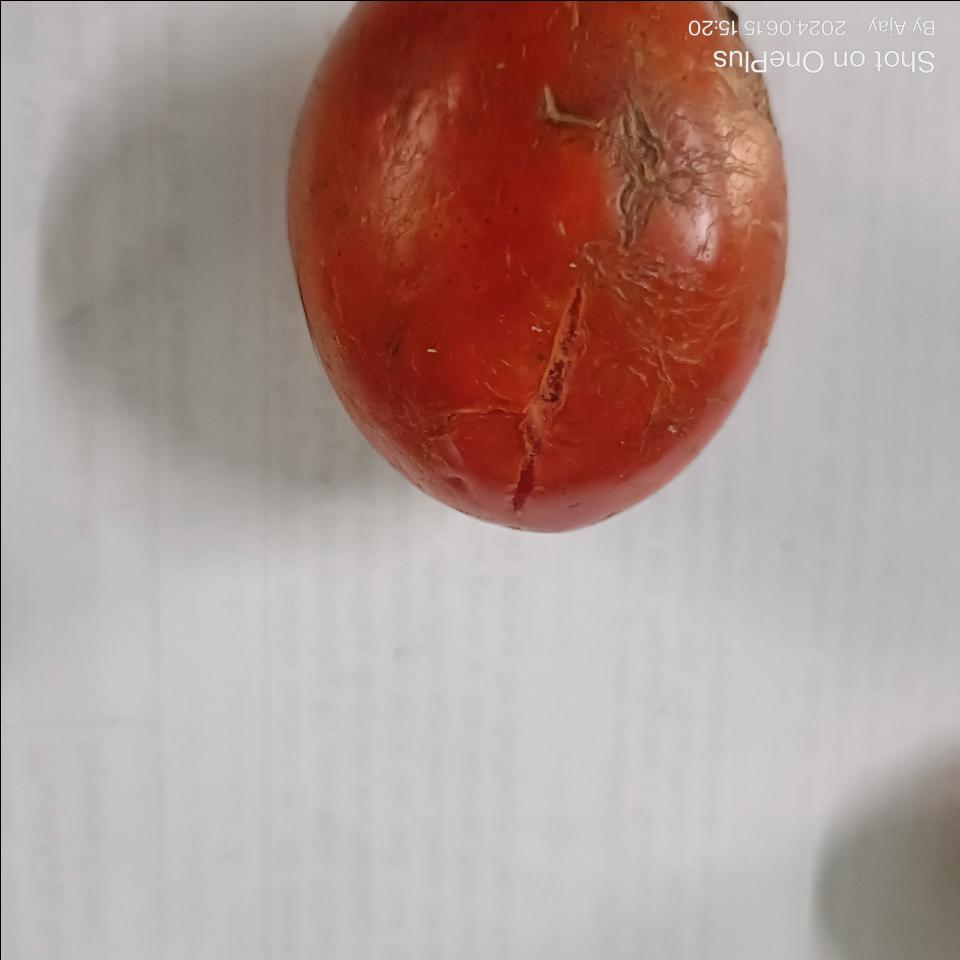Cracking: (476, 268, 628, 543), (531, 73, 714, 273)
